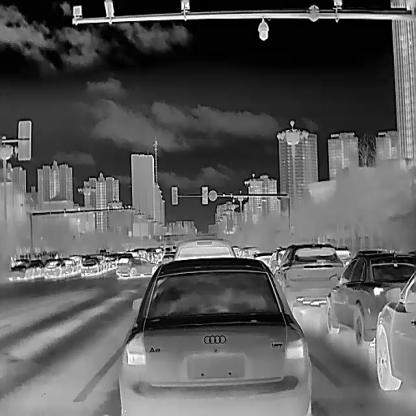car: (118, 257, 311, 415), (325, 249, 415, 345), (271, 241, 344, 311), (374, 268, 415, 390), (172, 237, 237, 259), (116, 256, 158, 276), (8, 257, 30, 278), (43, 257, 66, 276), (236, 244, 258, 258), (81, 256, 98, 273), (29, 258, 44, 276), (61, 257, 76, 273)
